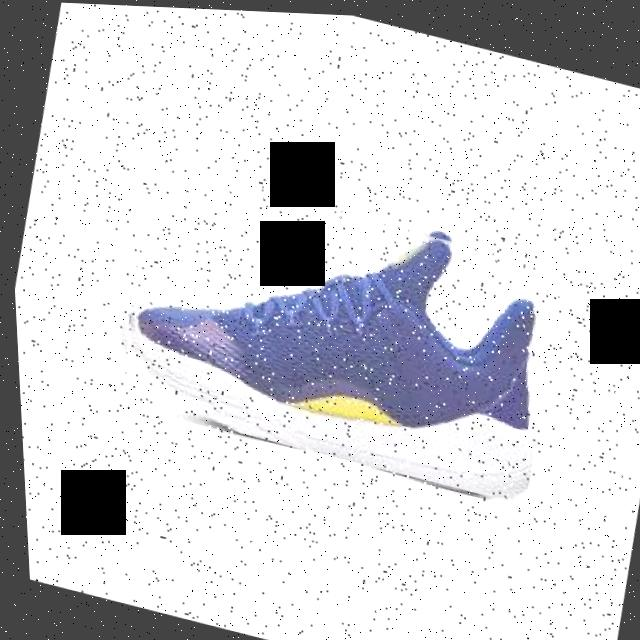shoe: (94, 152, 572, 502)
